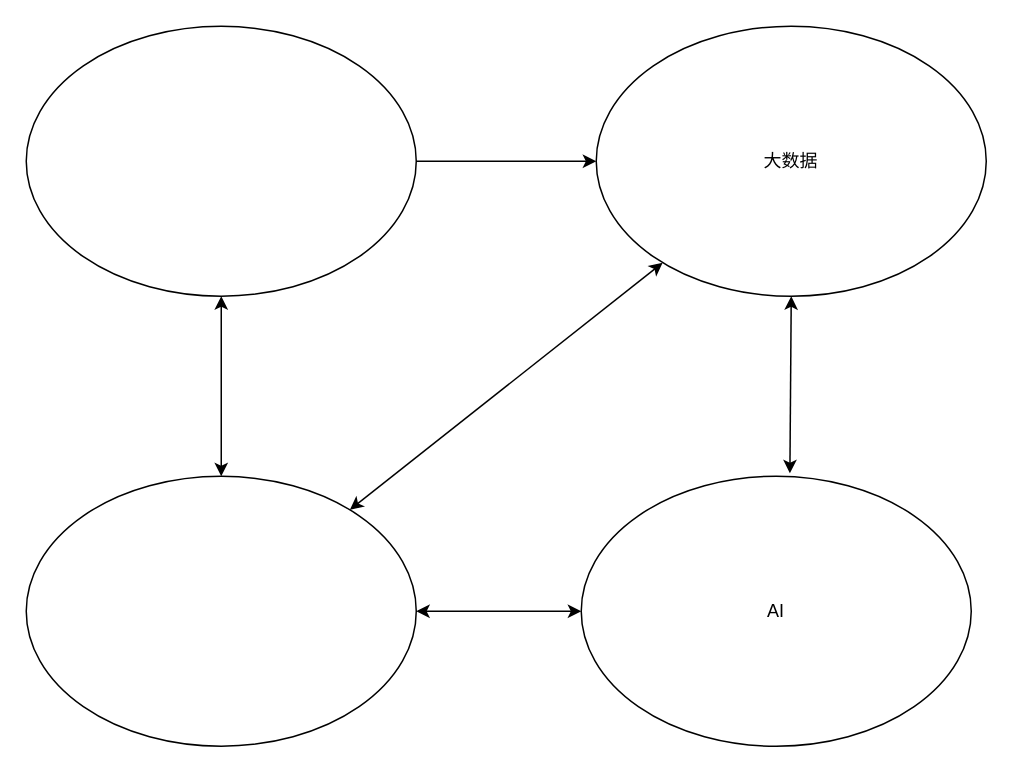
The diagram is 1013 pixels wide and 773 high, and some of its shapes have lost their labels. Each missing label, with the box of its shape:
应用: (25, 25, 416, 296)
营销自动化: (25, 475, 416, 746)
